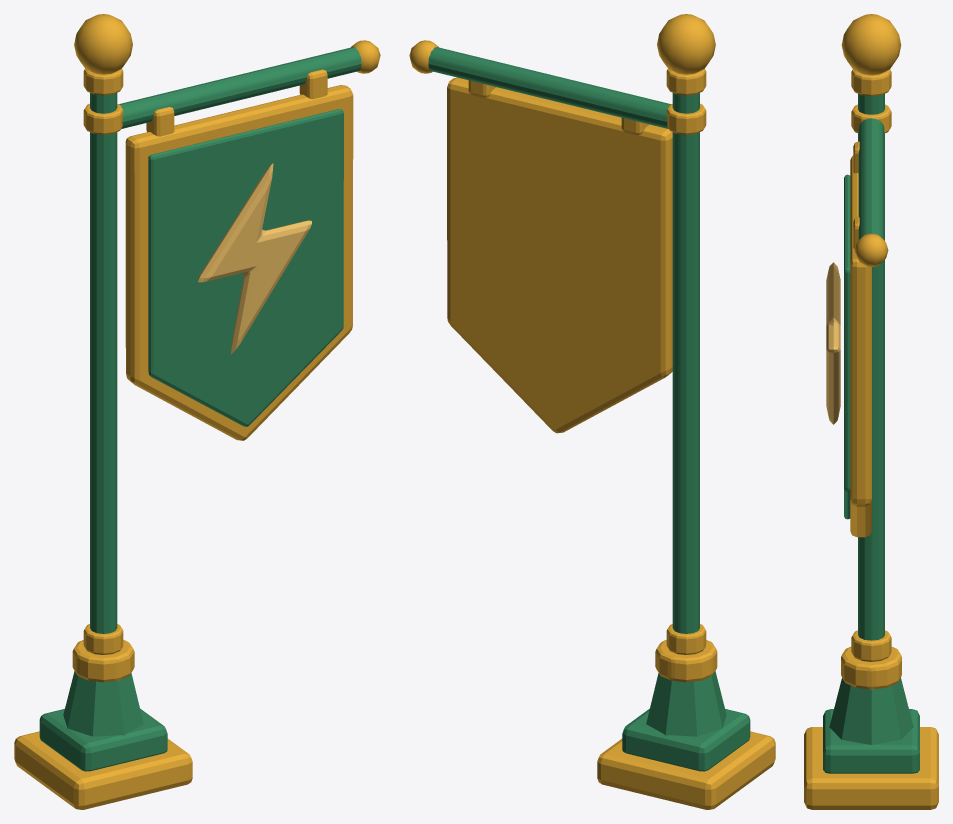
Rendered from banner.glb.
3 renders of one model, left to right at view 1: azimuth 30°, elevation 25°; view 2: azimuth 150°, elevation 25°; view 3: azimuth 270°, elevation 25°, orthographic.
Visible parts, largest first — view 1: Boulevard_green.003, Boulevard_gold.003, Boulevard_yellow.001; view 2: Boulevard_gold.003, Boulevard_green.003; view 3: Boulevard_gold.003, Boulevard_green.003, Boulevard_yellow.001.
Part boxes in pixels (x1,y1,x2,y2): Boulevard_green.003: (39, 47, 361, 771); Boulevard_gold.003: (14, 14, 380, 809); Boulevard_yellow.001: (198, 163, 311, 354); Boulevard_gold.003: (409, 14, 775, 809); Boulevard_green.003: (428, 47, 750, 771); Boulevard_gold.003: (804, 14, 938, 809); Boulevard_green.003: (823, 94, 919, 773); Boulevard_yellow.001: (826, 262, 840, 424).
Bounding box in the file's own units: 1.24 × 2.7 × 0.43.
